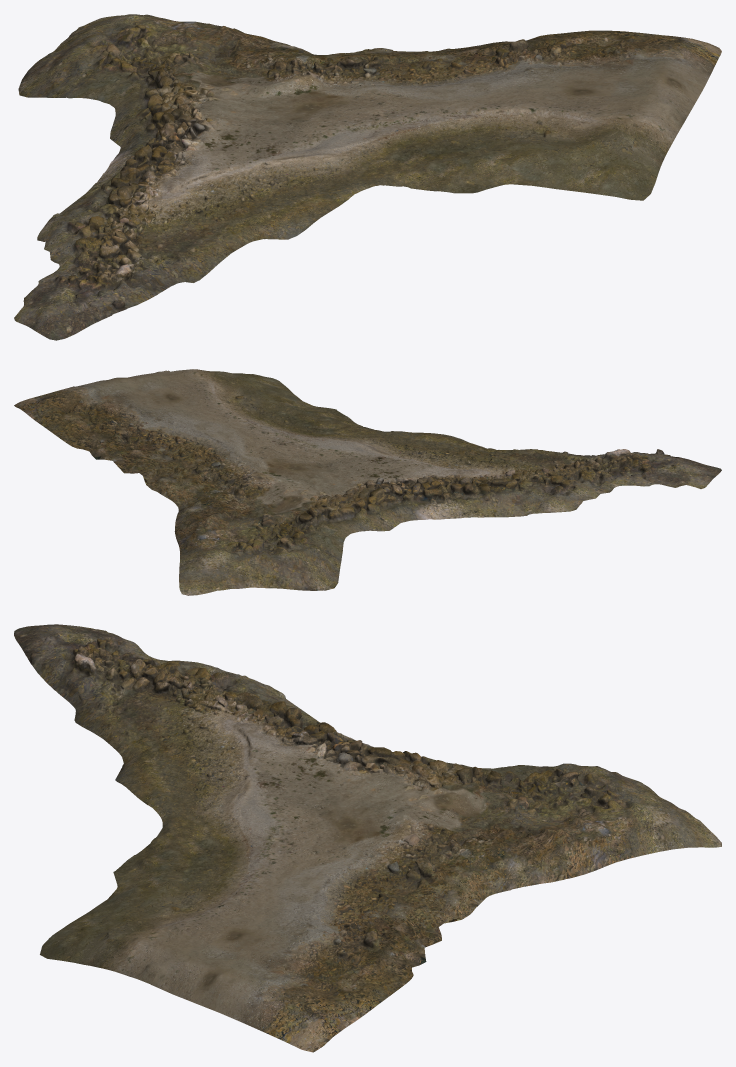
Rendered from coast_rocks_01_Game.fbx.
The picture shows the model from 3 angles, top to bottom: view 1: azimuth 30°, elevation 25°; view 2: azimuth 150°, elevation 25°; view 3: azimuth 270°, elevation 25°; orthographic projection. The views are drawn at different scales.
Visible parts, largest first — view 1: coast_rocks_01_Game; view 2: coast_rocks_01_Game; view 3: coast_rocks_01_Game.
Part boxes in pixels (x1=…): coast_rocks_01_Game: x1=14, y1=14, x2=721, y2=340; coast_rocks_01_Game: x1=14, y1=369, x2=721, y2=595; coast_rocks_01_Game: x1=14, y1=624, x2=721, y2=1052.
Bounding box in the file's own units: 59.51 × 3.29 × 42.52.
